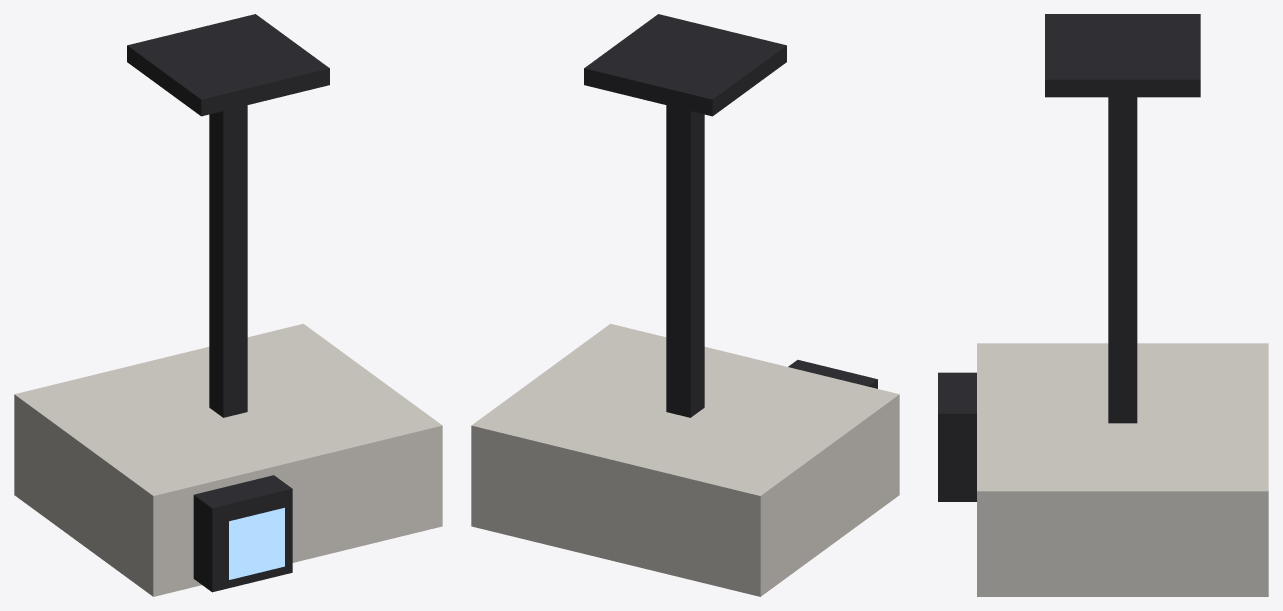
The model's file is projector.glb.
The picture shows the model from 3 angles, left to right: view 1: azimuth 30°, elevation 25°; view 2: azimuth 150°, elevation 25°; view 3: azimuth 270°, elevation 25°; orthographic projection. The views are drawn at different scales.
Visible parts, largest first — view 1: projector; view 2: projector; view 3: projector.
Part boxes in pixels (x1,y1,x2,y2): projector: [14, 14, 442, 596]; projector: [471, 14, 899, 596]; projector: [938, 14, 1268, 596].
Size of the model in its own units: 0.36 by 0.54 by 0.35.
